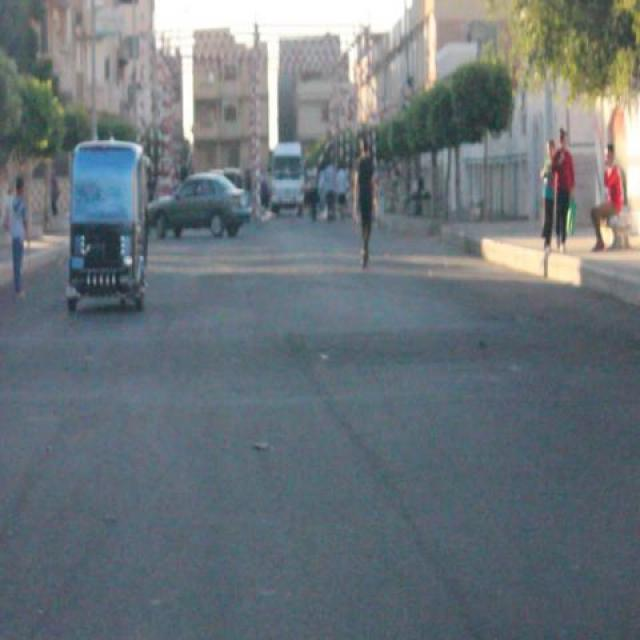Unmarked Bump: (0, 319, 637, 371)
